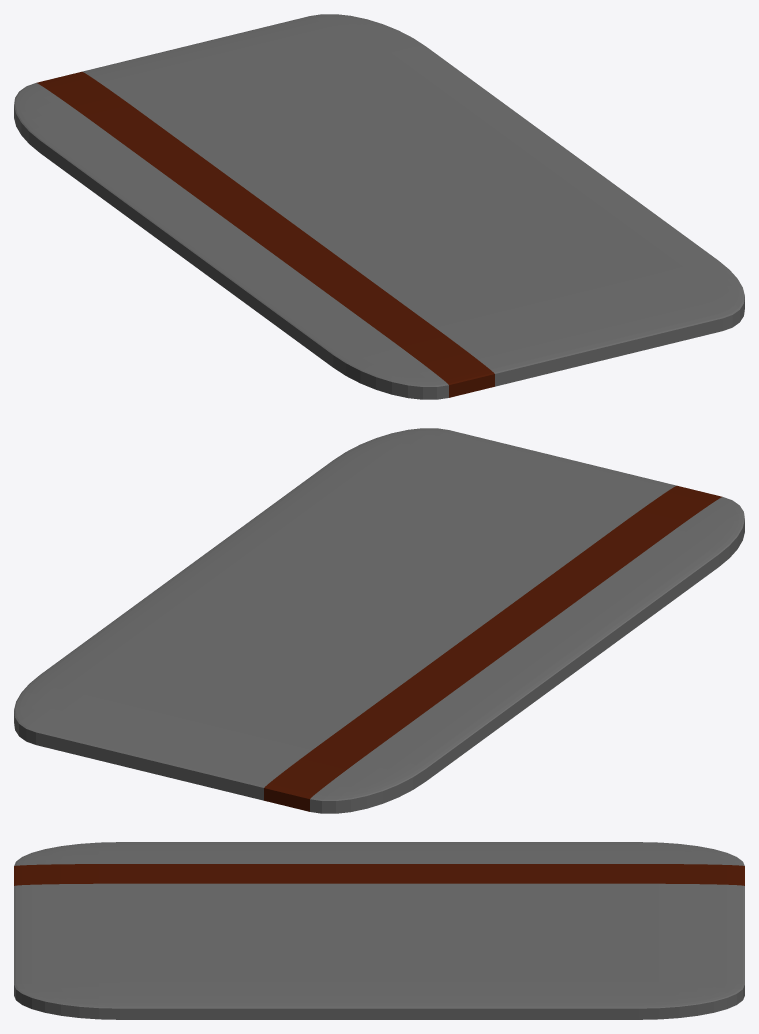
Rendered from BrownKeyCard.glb.
The picture shows the model from 3 angles, top to bottom: view 1: azimuth 30°, elevation 25°; view 2: azimuth 150°, elevation 25°; view 3: azimuth 270°, elevation 25°; orthographic projection. The views are drawn at different scales.
Parts seen in each view (by area): view 1: Cube; view 2: Cube; view 3: Cube.
Boxes of the visible parts, x1=… form: Cube: x1=14, y1=14, x2=744, y2=399; Cube: x1=14, y1=428, x2=744, y2=813; Cube: x1=14, y1=842, x2=744, y2=1019.
Size of the model in its own units: 0.0525 by 0.00233 by 0.0974.
